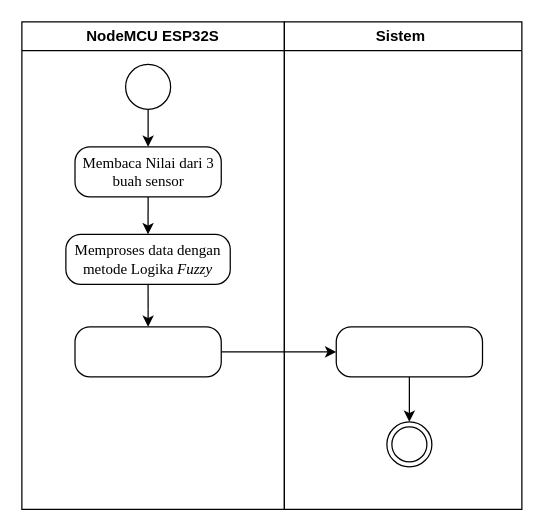
This 544x531 diagram has some shape labels left out. Here are the shapes that lost their labels. From the top down, the centre of each, then its label:
point 147,351: Kirim Data hasil dari Logika Fuzzy
point 408,351: Menerima dan menyimpan data kedalam basis data
